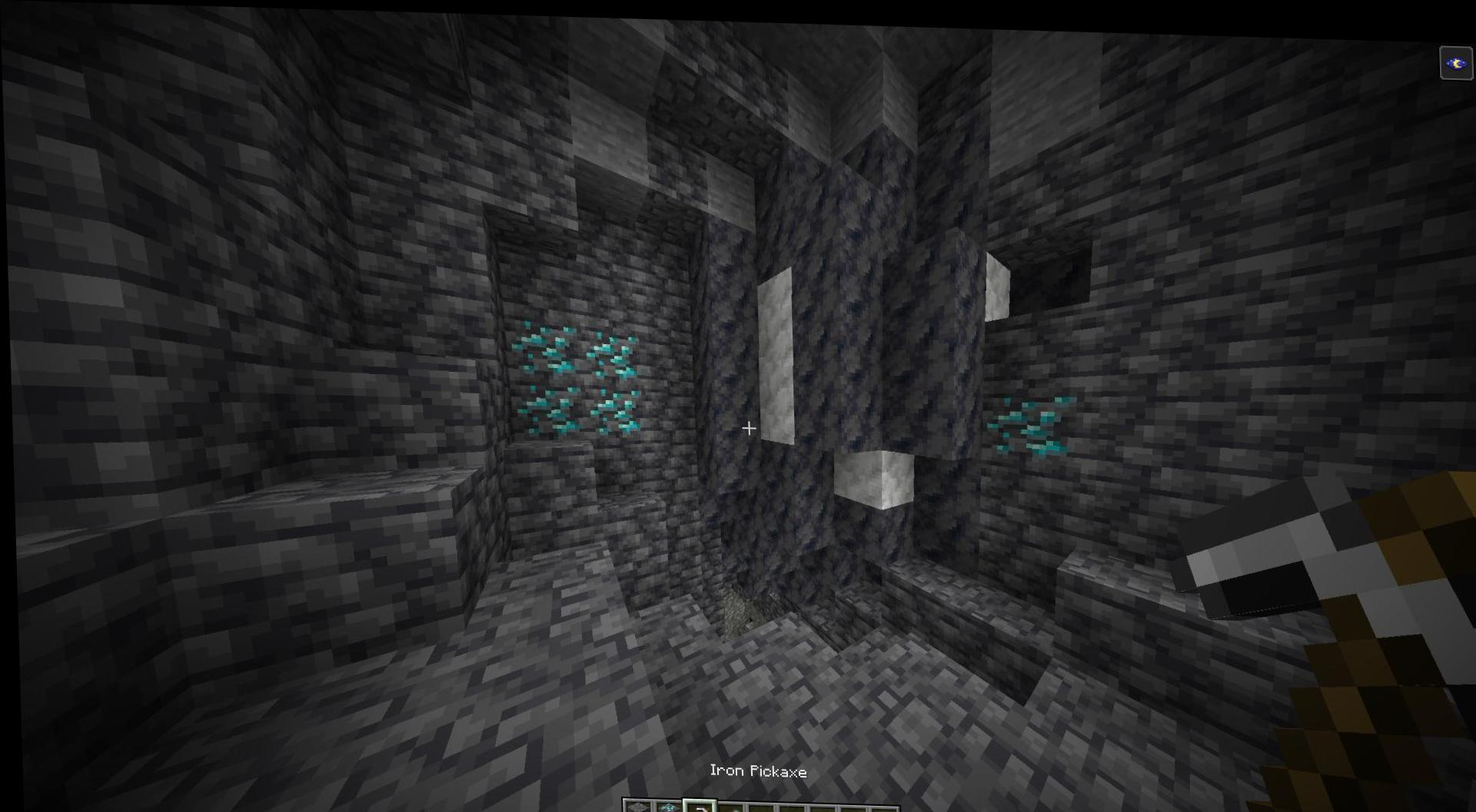diamond ore: (980, 384, 1071, 457), (511, 373, 582, 441), (503, 314, 584, 373), (580, 375, 646, 439), (581, 324, 639, 380)
